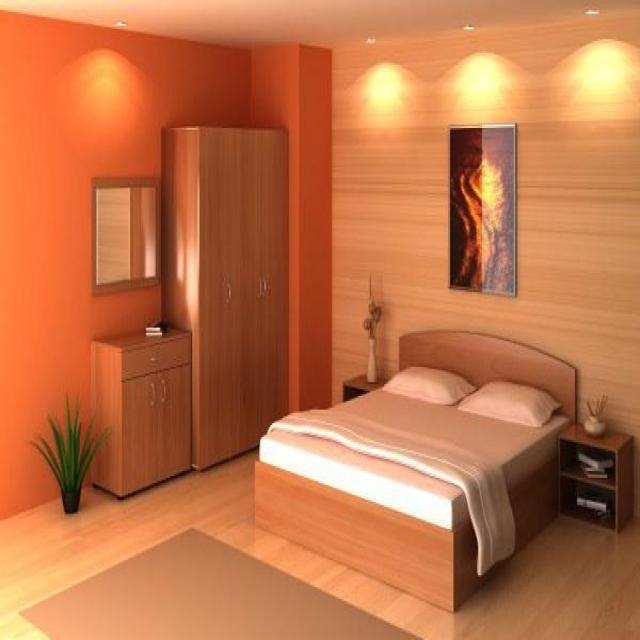other: (352, 42, 638, 110), (80, 42, 139, 131)
